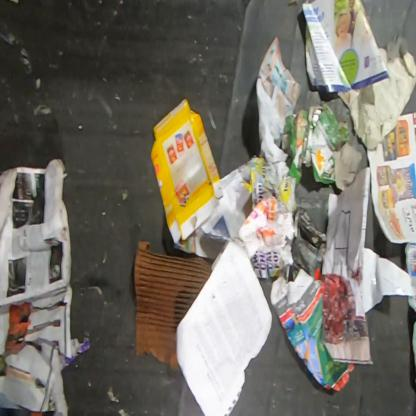cardboard: (149, 97, 226, 246), (134, 240, 212, 372)
metal: (312, 109, 321, 128)
